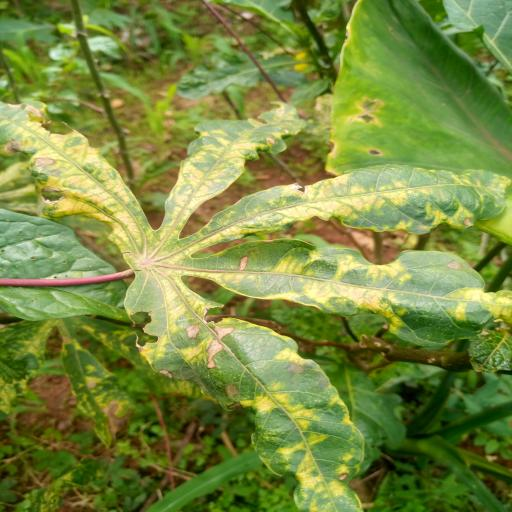Cassava_Mosaic: (0, 91, 512, 511)
